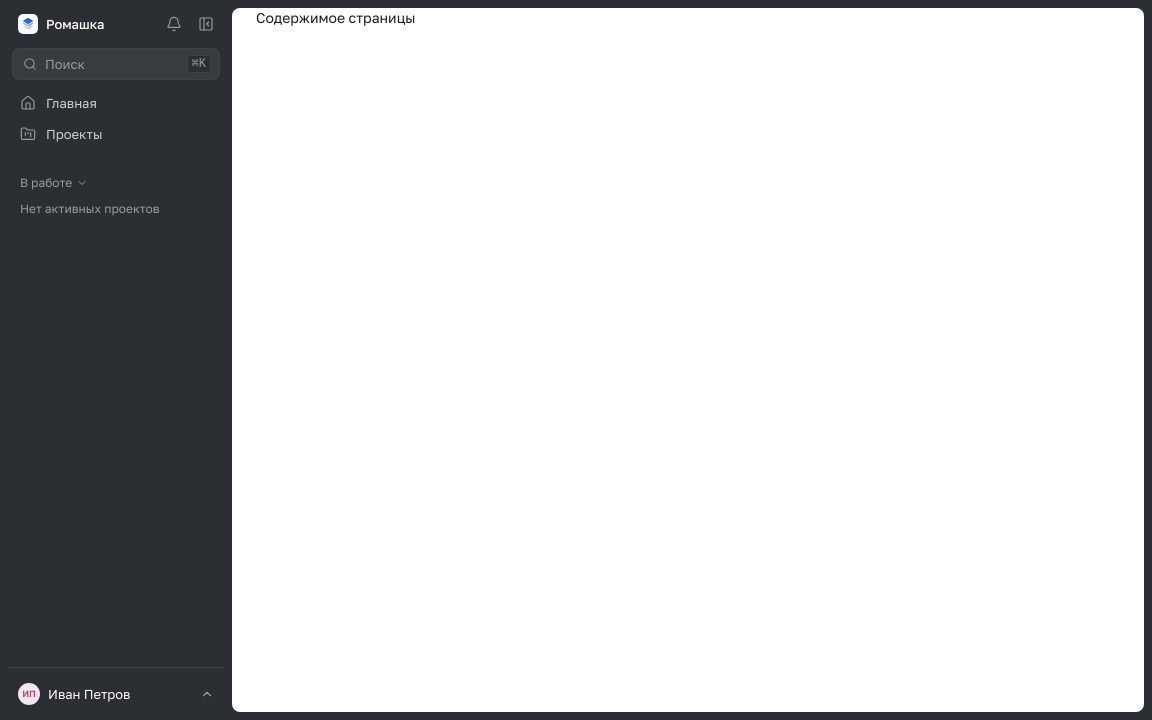
app shell › says when there are no active projects and folds the list
The width and height of the screenshot is (1152, 720).
Expected: the text "Нет активных проектов" is shown, 20,201 -> 160,216
Click the button "В работе".
click(116, 183)  # box 12,169 -> 220,197
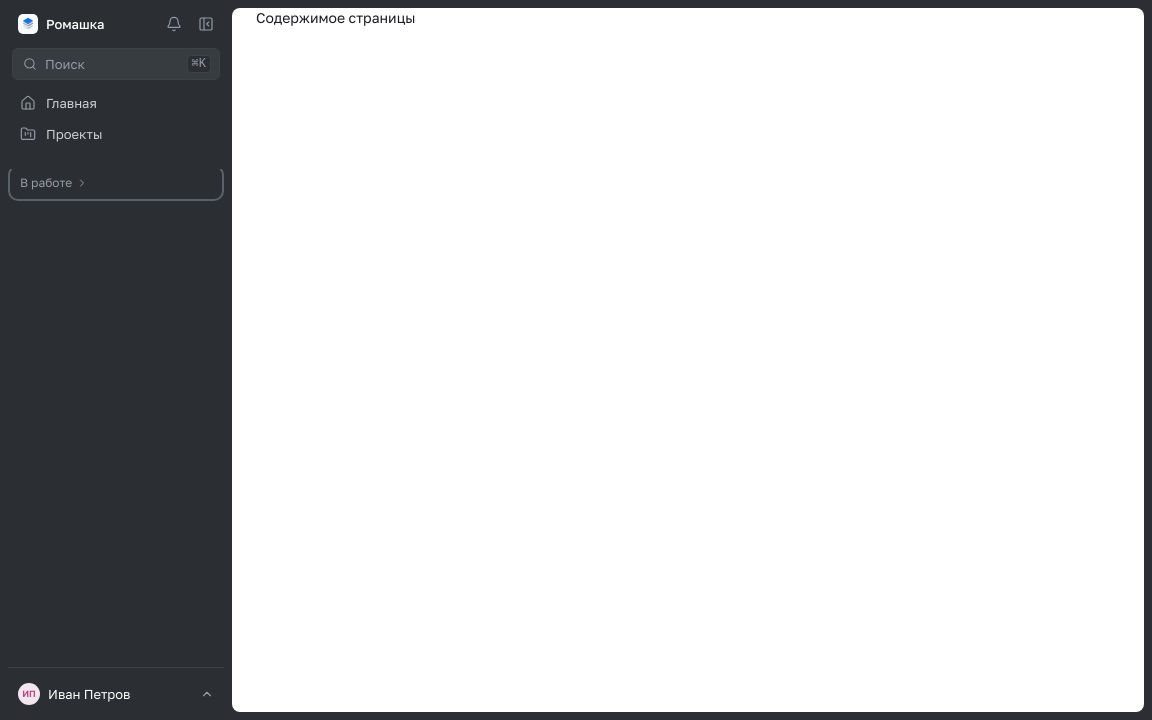
Expected: the text "Нет активных проектов" is gone
